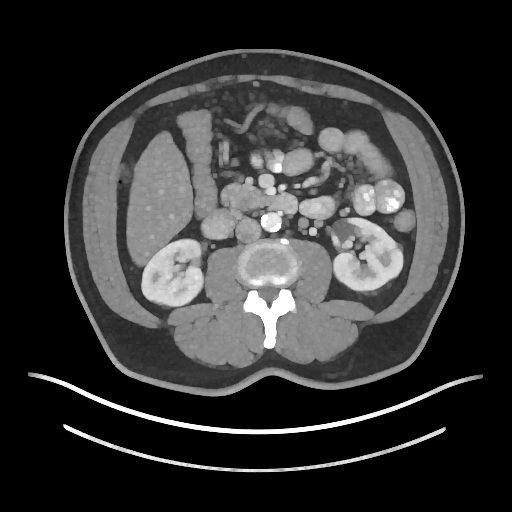Lesion: (329, 217, 358, 242)
